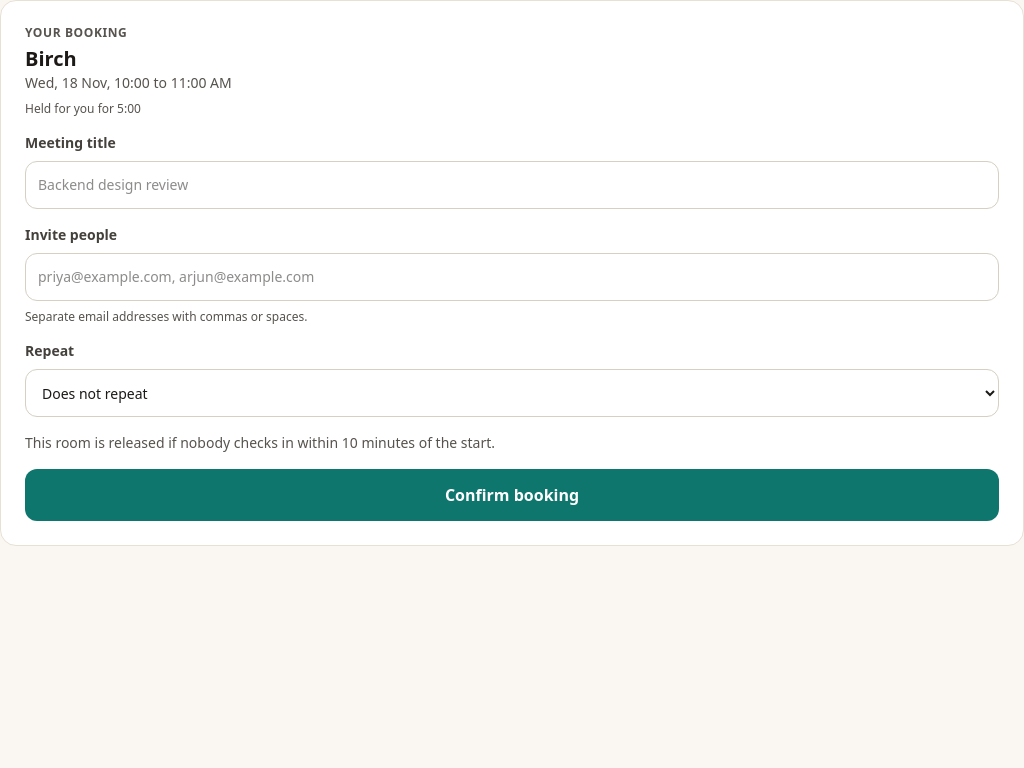
Test: BookingPanel › flags invalid invitee addresses without calling the API
Type "Sync" into the field labelled "Meeting title" at (512, 185), box [25, 161, 999, 209]
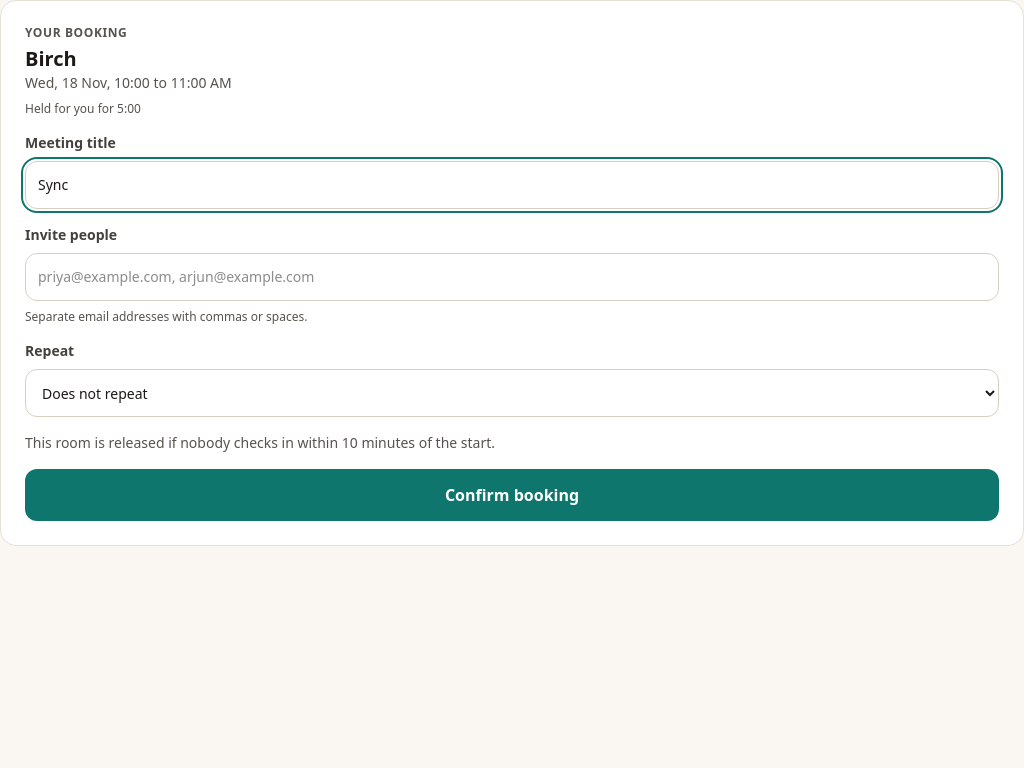
Type "not-an-email" into the field labelled "Invite people" at (512, 277), box [25, 253, 999, 301]
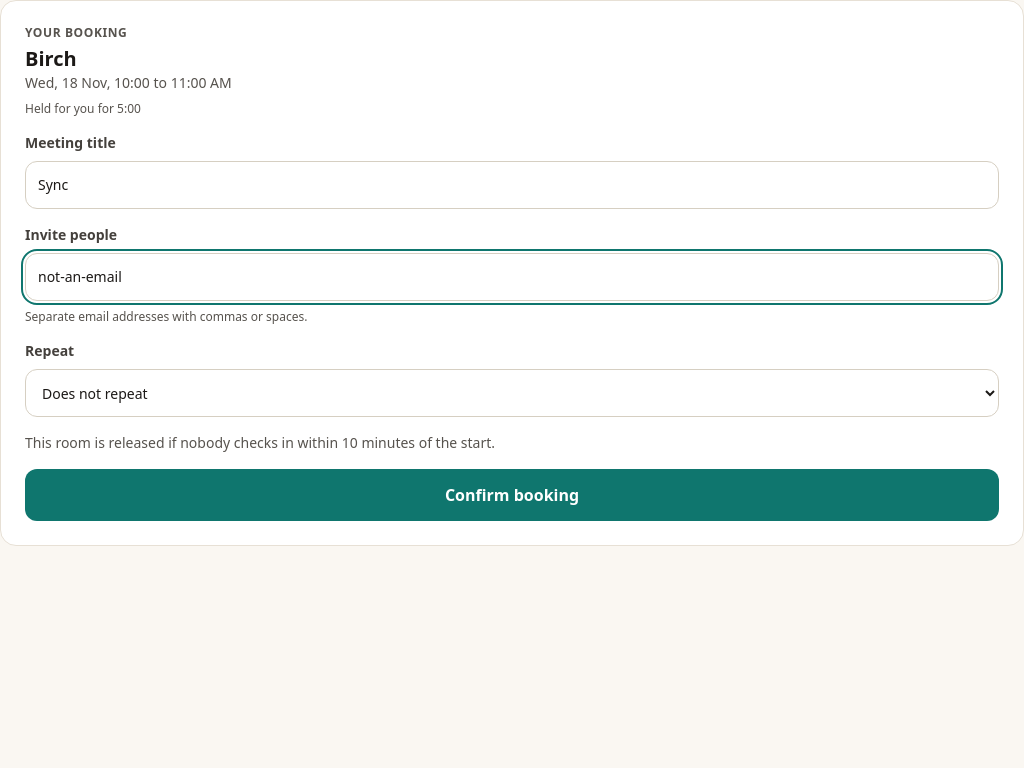
Click the button "Confirm booking" at (512, 495), box [25, 469, 999, 521]
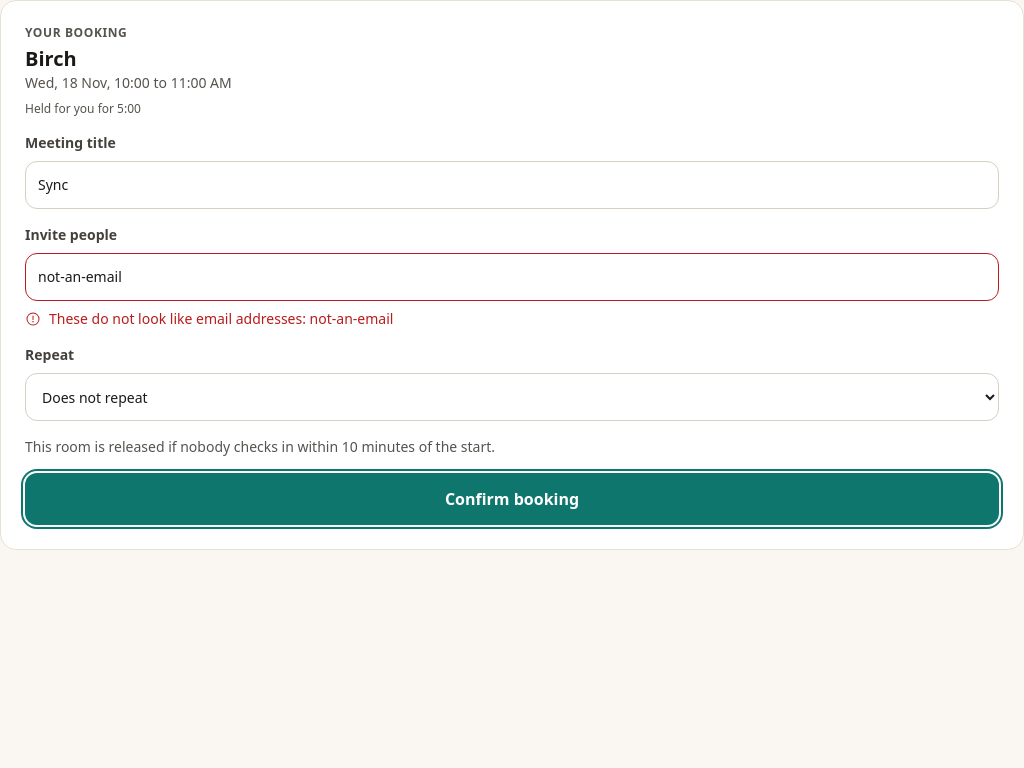
Result: the text "These do not look like email addresses: not-an-email" is shown at [25, 309, 393, 328]
